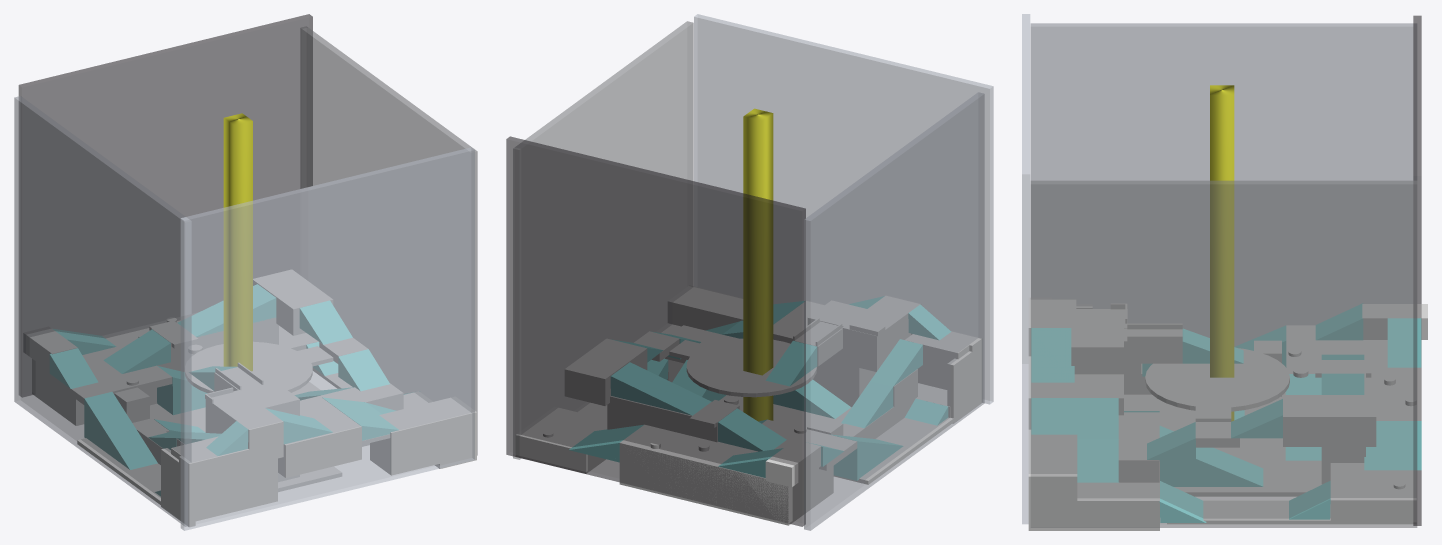
The model's file is level_whitebox_col.glb.
The picture shows the model from 3 angles, left to right: view 1: azimuth 30°, elevation 25°; view 2: azimuth 150°, elevation 25°; view 3: azimuth 270°, elevation 25°; orthographic projection. The views are drawn at different scales.
Parts seen in each view (by area): view 1: col_平台.022, col_平台.014, col_平台.008, col_平台.020, col_平台, col_平台.031, col_平台.050, col_平台.057, ramp_平台.011, col_平台.058, colcyl_平台, col_平台.059 (+26 smaller); view 2: col_平台.014, col_平台.022, col_平台.008, col_平台.020, col_平台.058, col_平台, colcyl_平台, col_平台.139, col_平台.059, col_平台.009, ramp_平台.016, col_平台.031 (+27 smaller); view 3: col_平台.020, col_平台.008, col_平台, colcyl_平台, col_平台.018, col_平台.035, col_平台.139, col_平台.009, col_平台.014, col_平台.022, col_平台.058, col_平台.031 (+28 smaller).
Part boxes in pixels (x1,y1,x2,y2): col_平台.022: (180, 147, 474, 530); col_平台.014: (18, 14, 312, 397); col_平台.008: (14, 96, 191, 526); col_平台.020: (300, 26, 477, 455); col_平台: (223, 113, 252, 370); col_平台.031: (370, 397, 476, 475); col_平台.050: (179, 442, 277, 522); col_平台.057: (278, 396, 361, 477); ramp_平台.011: (84, 392, 157, 469); col_平台.058: (32, 313, 196, 425); colcyl_平台: (185, 342, 312, 392); col_平台.059: (206, 390, 283, 458); col_平台.014: (506, 136, 805, 526); col_平台.022: (694, 14, 993, 404); col_平台.008: (804, 92, 984, 530); col_平台.020: (513, 21, 693, 459); col_平台.058: (619, 425, 833, 525); col_平台: (743, 108, 773, 421); colcyl_平台: (687, 339, 816, 396); col_平台.139: (516, 407, 606, 473); col_平台.059: (842, 295, 920, 371); col_平台.009: (565, 339, 646, 405); ramp_平台.016: (611, 362, 710, 415); col_平台.031: (668, 286, 742, 330); col_平台.020: (1030, 180, 1417, 527); col_平台.008: (1030, 23, 1416, 345); col_平台: (1210, 85, 1234, 421); colcyl_平台: (1145, 348, 1289, 411); col_平台.018: (1028, 482, 1159, 530); col_平台.035: (1124, 393, 1321, 496); col_平台.139: (1330, 463, 1416, 524); col_平台.009: (1283, 395, 1375, 446); col_平台.014: (1413, 15, 1421, 525); col_平台.022: (1022, 14, 1030, 524); col_平台.058: (1322, 340, 1421, 420); col_平台.031: (1028, 429, 1077, 524).
Size of the model in its own units: 81.49 by 81.89 by 84.01.
